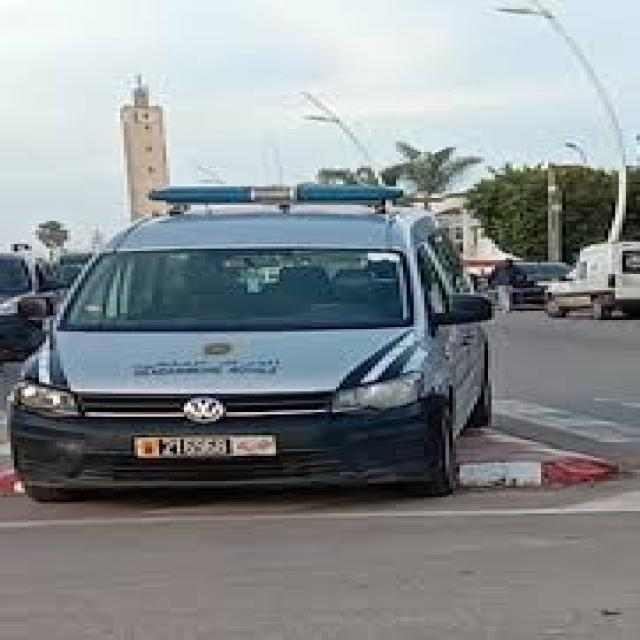gendarme car: (6, 175, 518, 503)
